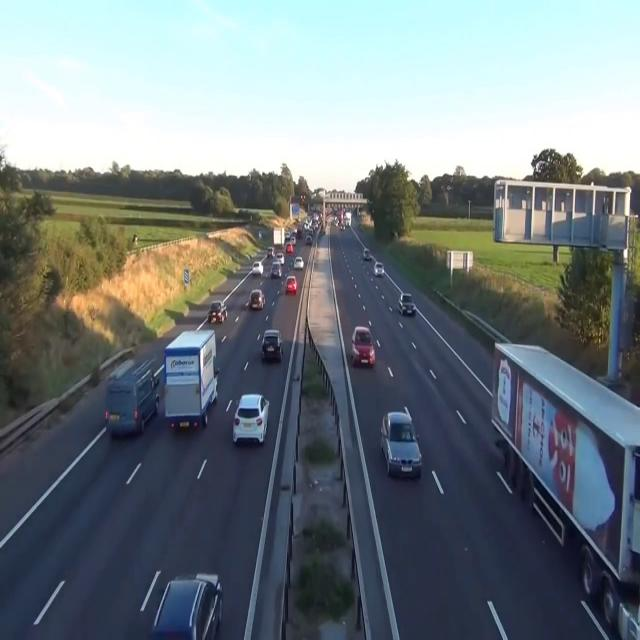belum terisi: (475, 314, 640, 640), (142, 552, 227, 640), (160, 323, 218, 430), (98, 347, 162, 443), (376, 402, 426, 484), (228, 385, 274, 449), (344, 317, 379, 379), (257, 329, 286, 372), (208, 289, 229, 333), (397, 286, 418, 323), (284, 271, 300, 305), (247, 290, 266, 317)
